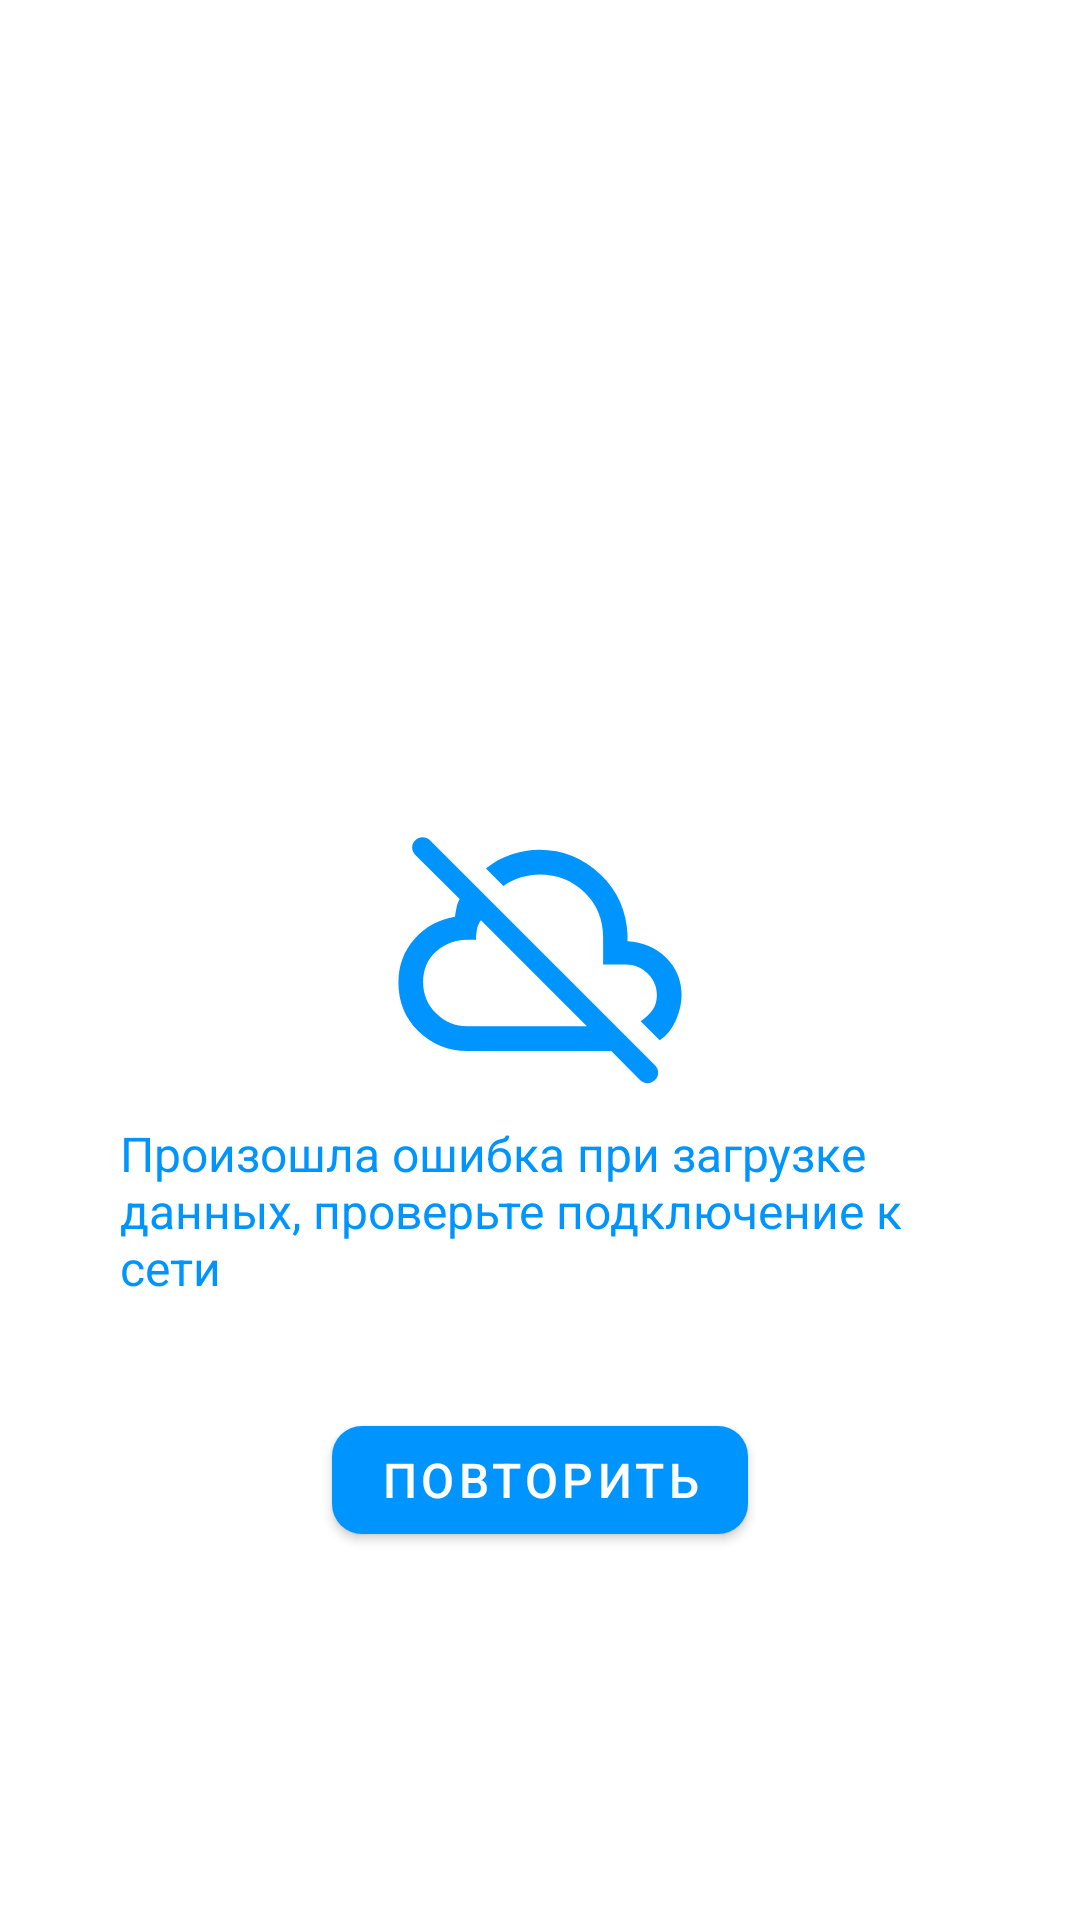

Screen size 1080 × 1920. Icon name, then its box in pixels as (x1, y1, x2, y2):
network: (398, 837, 682, 1084)
